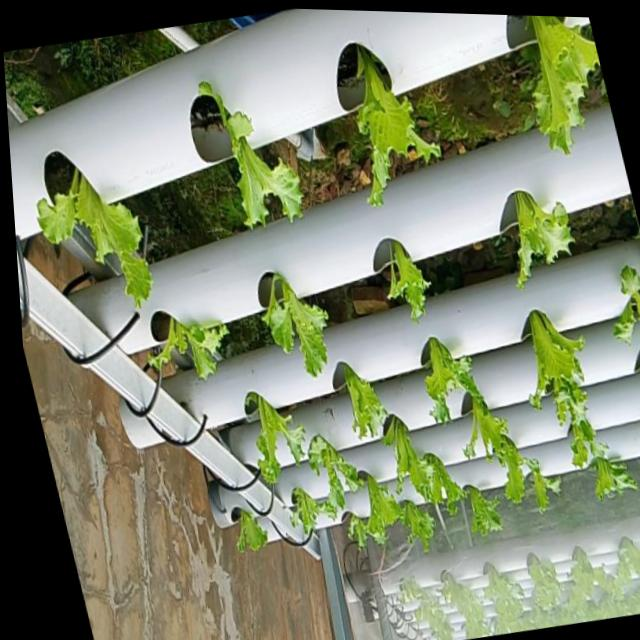Baby: (33, 174, 149, 313), (195, 86, 300, 232), (355, 48, 440, 209), (524, 16, 600, 156), (461, 394, 536, 484), (260, 279, 325, 382), (509, 194, 570, 291), (379, 417, 444, 506), (243, 397, 303, 490), (143, 325, 226, 388), (443, 458, 503, 545), (304, 437, 361, 520), (526, 311, 580, 396), (543, 359, 591, 448), (346, 476, 399, 552), (336, 366, 385, 442), (387, 244, 428, 326), (423, 340, 460, 424), (287, 491, 334, 544), (610, 266, 640, 345), (520, 459, 558, 513), (590, 457, 634, 500), (398, 502, 433, 554), (234, 517, 265, 560)
